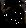Speed Limit -60-: (5, 5, 23, 23)
